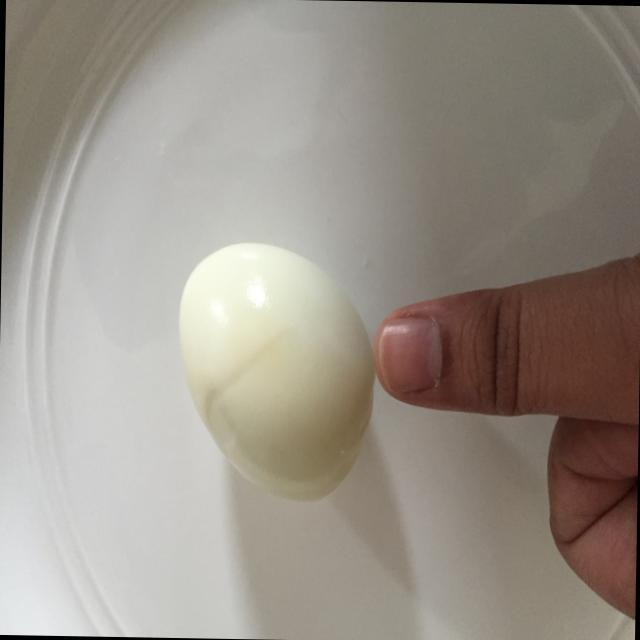Egg: (159, 233, 379, 506)
Finger: (369, 264, 536, 426)
